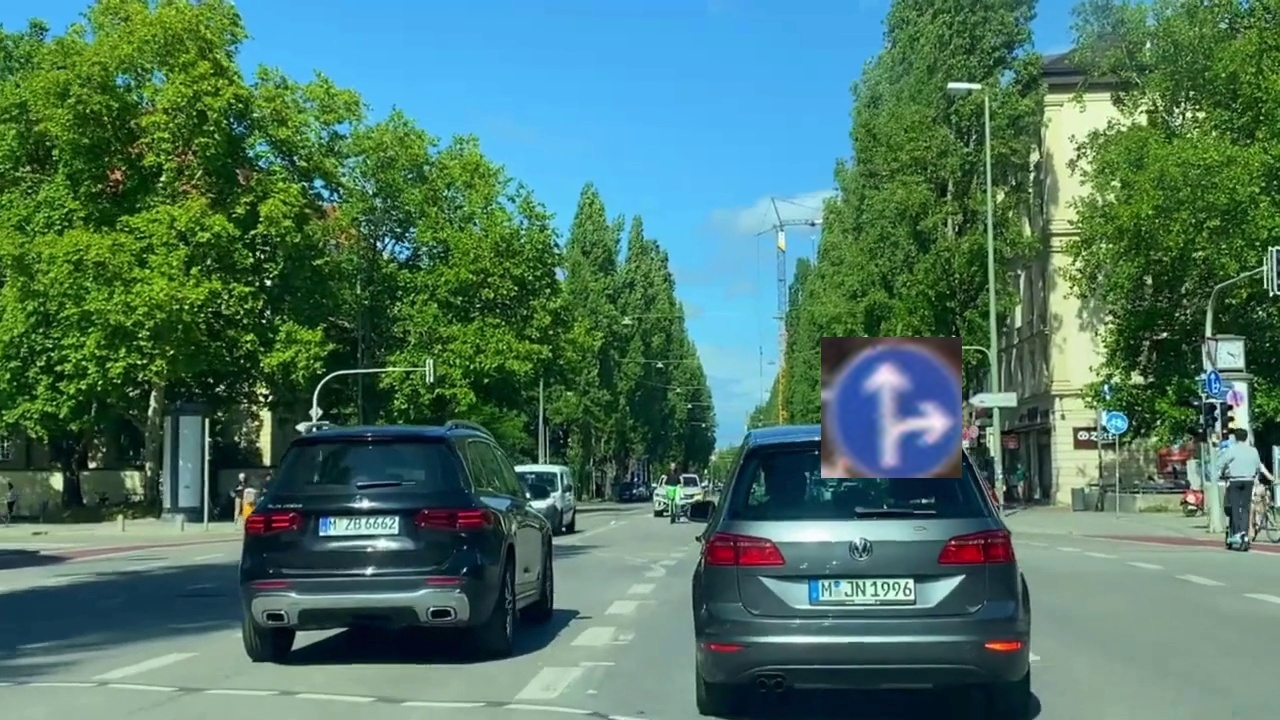Straight/right: (821, 337, 962, 478)
